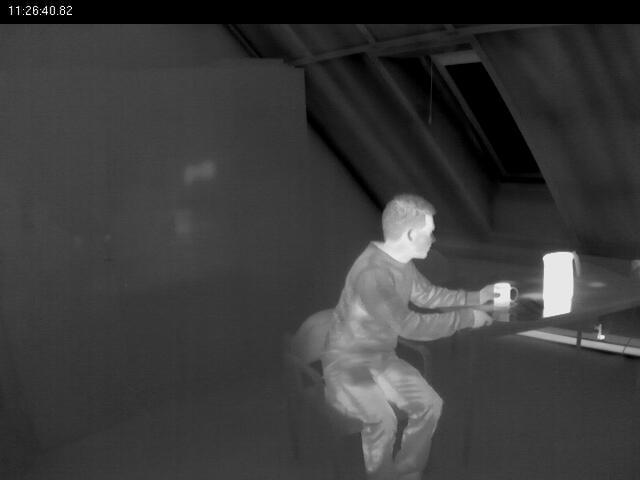person: (283, 192, 508, 480)
